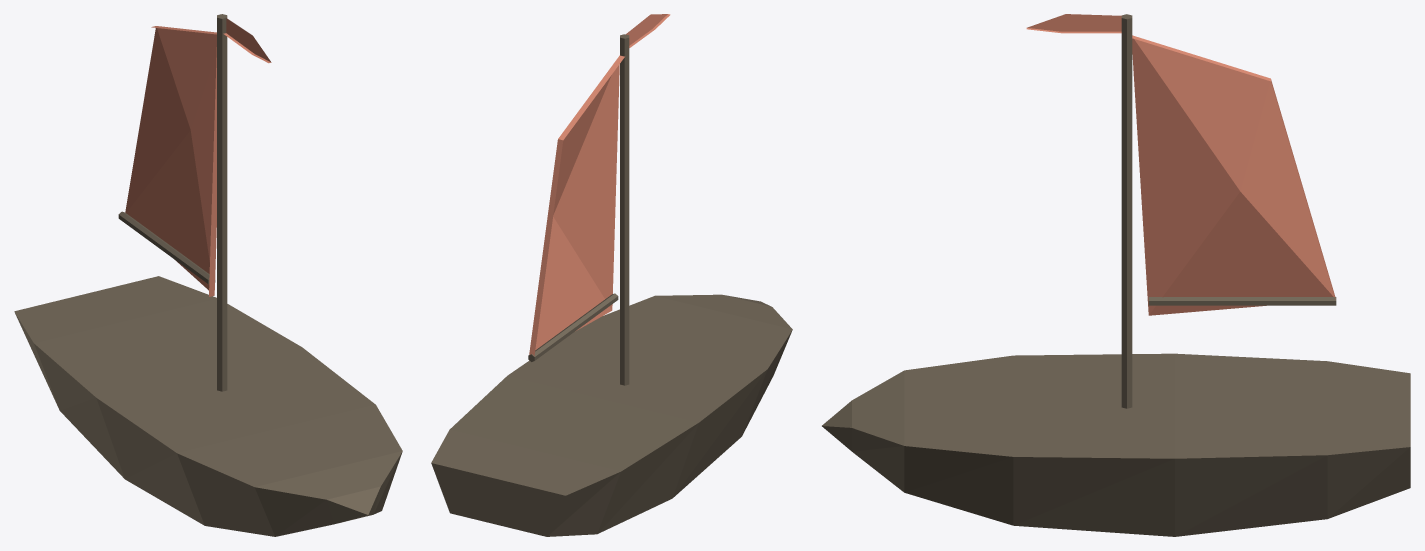
The model's file is stylized_boat_lowpoly.glb.
The picture shows the model from 3 angles, left to right: view 1: azimuth 30°, elevation 25°; view 2: azimuth 150°, elevation 25°; view 3: azimuth 270°, elevation 25°; orthographic projection. The views are drawn at different scales.
Visible parts, largest first — view 1: Boat_Wood, Sail_and_Pennant; view 2: Boat_Wood, Sail_and_Pennant; view 3: Boat_Wood, Sail_and_Pennant.
Part boxes in pixels (x1,y1,x2,y2): Boat_Wood: (14,14,402,536); Sail_and_Pennant: (125,18,271,296); Boat_Wood: (431,34,792,536); Sail_and_Pennant: (529,14,670,355); Boat_Wood: (822,14,1410,536); Sail_and_Pennant: (1026,14,1335,315).
Size of the model in its own units: 0.57 by 1.22 by 1.35.
